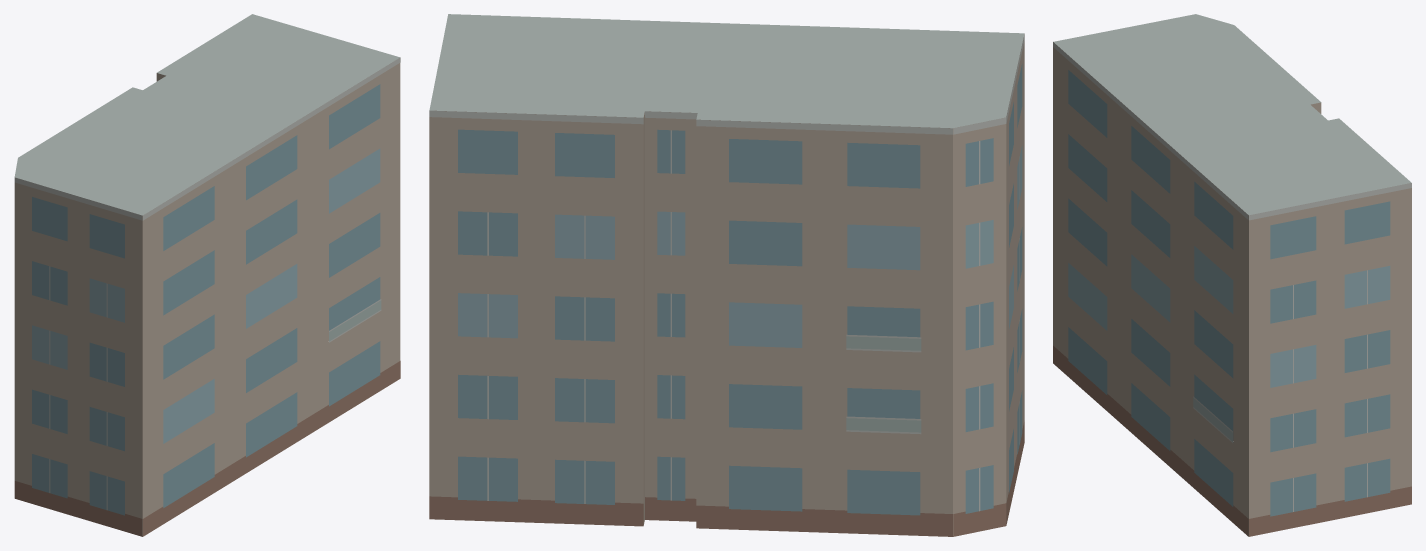
Rendered from survey-upis-32763594.glb.
3 renders of one model, left to right at view 1: azimuth 30°, elevation 25°; view 2: azimuth 150°, elevation 25°; view 3: azimuth 270°, elevation 25°, orthographic. The views are drawn at different scales.
Parts seen in each view (by area): view 1: survey-upis-32763594.tmp; view 2: survey-upis-32763594.tmp; view 3: survey-upis-32763594.tmp.
Boxes of the visible parts, box(x1,y1,x2,y2) form: survey-upis-32763594.tmp: box(14, 14, 400, 536); survey-upis-32763594.tmp: box(429, 14, 1024, 536); survey-upis-32763594.tmp: box(1053, 14, 1411, 536).
Bounding box in the file's own units: 20.49 × 15.25 × 15.43.
